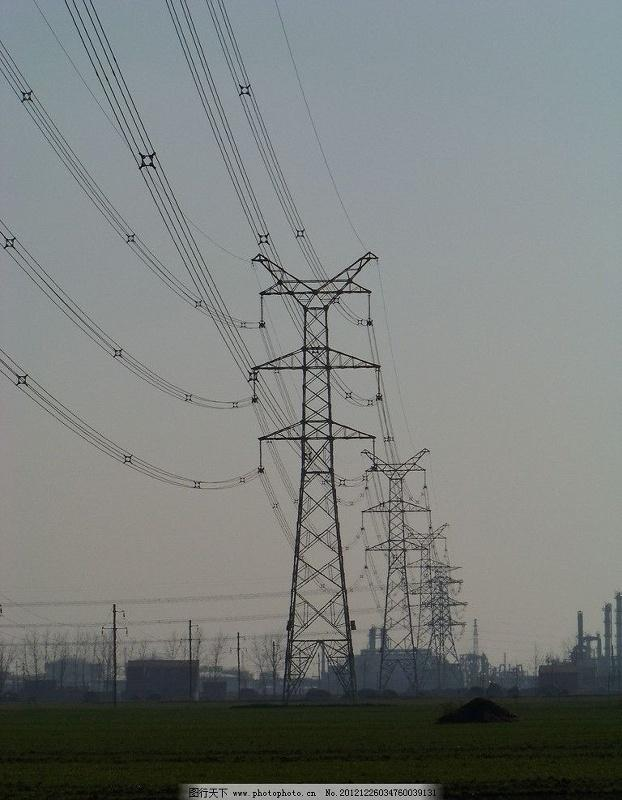power_tower: (223, 235, 388, 698), (353, 439, 436, 693), (401, 518, 450, 688)
